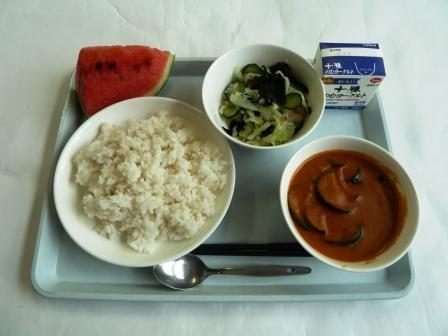Curry: (284, 138, 416, 267)
Rice: (56, 103, 225, 254)
Salad: (207, 43, 315, 143)
watermelon: (64, 33, 172, 119)
